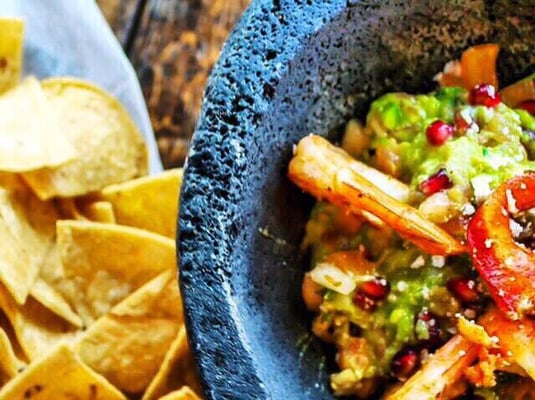pizza: (287, 132, 461, 257)
